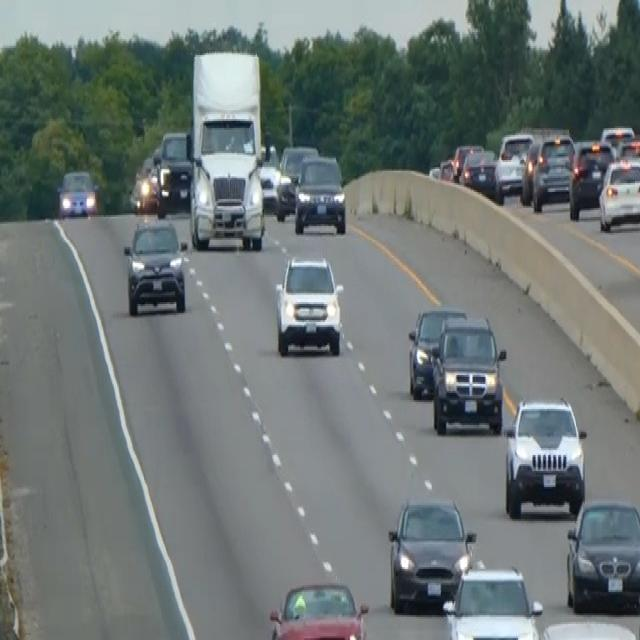car: (386, 494, 476, 614), (503, 393, 586, 519), (430, 313, 506, 435), (564, 496, 639, 613), (442, 560, 543, 638), (122, 214, 188, 316), (267, 578, 369, 638), (407, 304, 466, 400), (293, 151, 346, 235), (568, 137, 613, 219), (531, 132, 575, 210), (274, 142, 318, 220), (153, 128, 192, 212), (598, 155, 639, 231), (494, 130, 533, 197), (539, 617, 639, 638), (57, 167, 96, 219), (461, 146, 497, 196), (130, 153, 160, 213), (258, 140, 280, 210), (519, 138, 542, 204), (450, 140, 481, 182), (600, 122, 635, 156)
jeep: (272, 251, 345, 359)
lorry: (187, 48, 266, 251)
